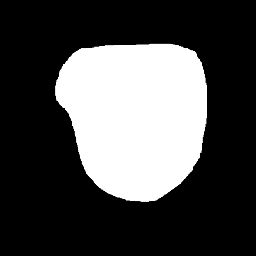mass: (58, 43, 209, 206)
